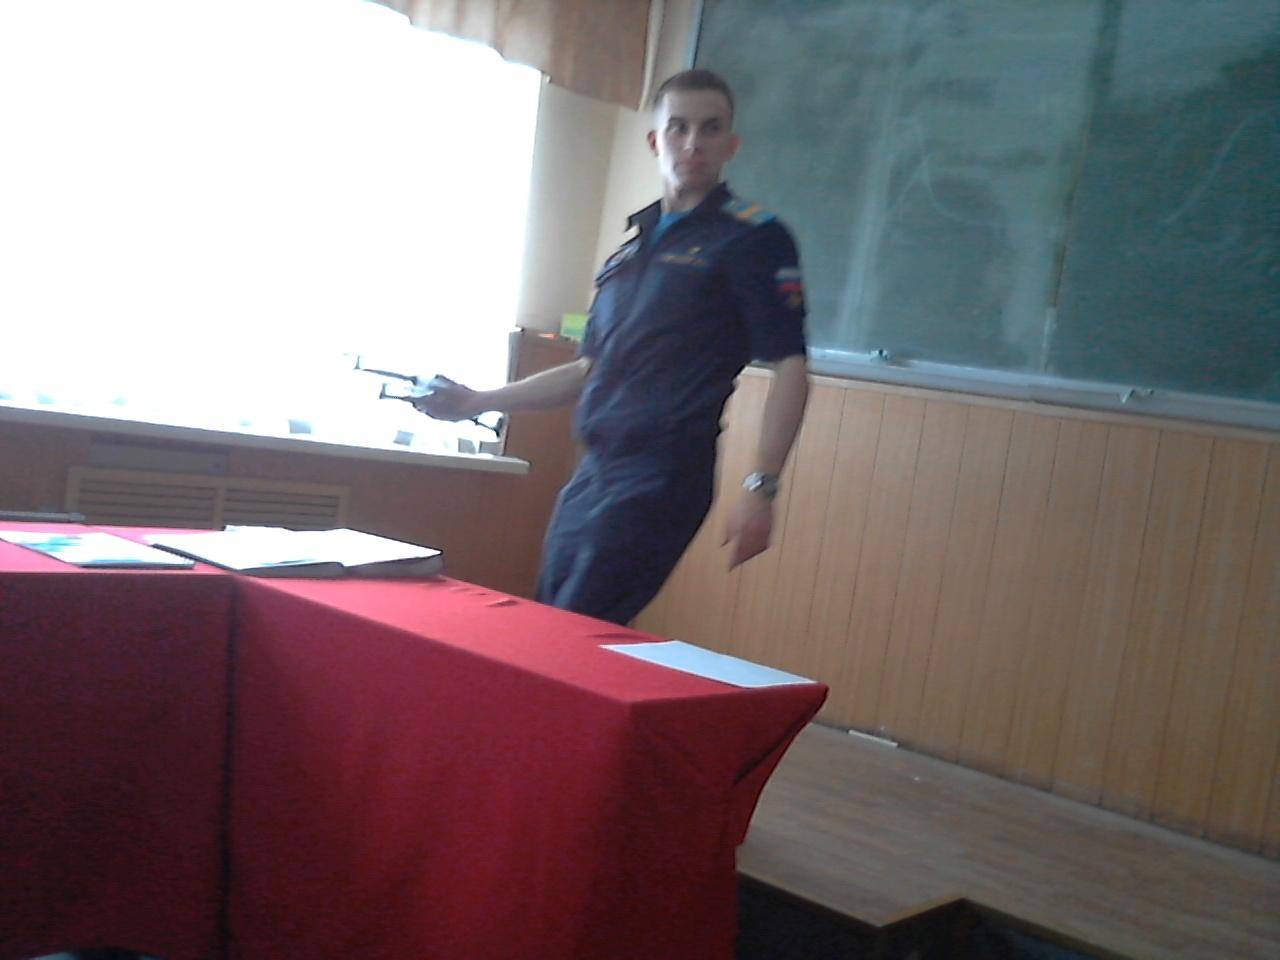drone: (304, 334, 526, 458)
